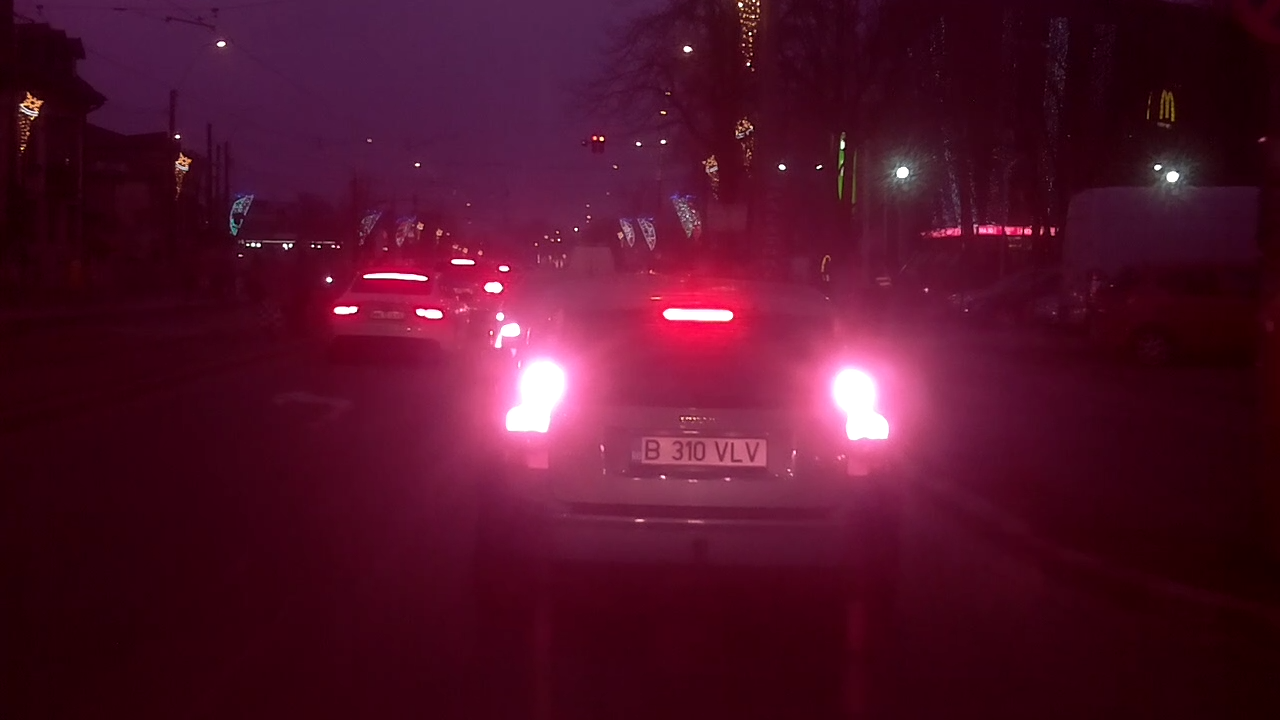license-plate: (626, 432, 772, 470)
